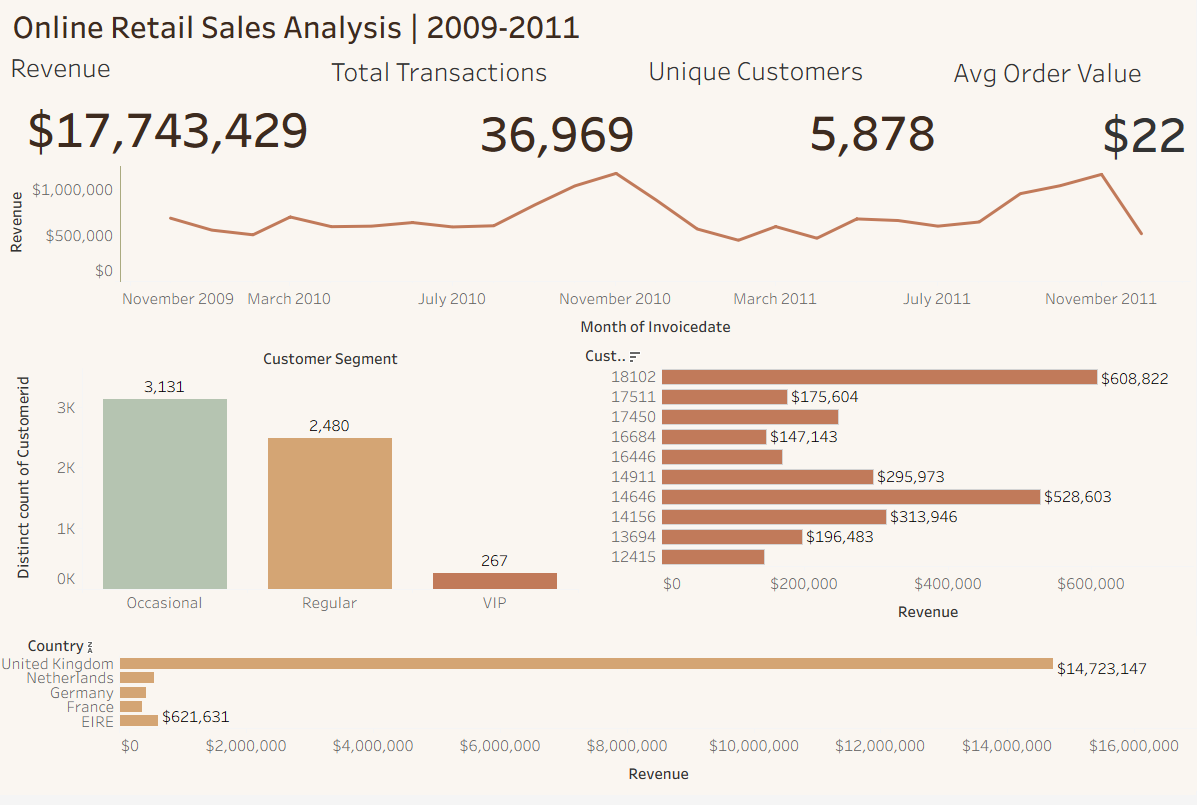

The page's visual inventory and layout, read from the dashboard file:
{"tool":"tableau","page":{"name":"Dashboard 1","canvas":[1200,800],"ordinal":0},"visuals":[{"type":"text","box":[8,8,1184,45]},{"type":"worksheet","title":"Revenue","mark":"Automatic","box":[9,51,307,115]},{"type":"text","box":[8,53,1184,739]},{"type":"worksheet","title":"Unique Customers","mark":"Automatic","box":[647,54,296,119]},{"type":"worksheet","title":"Total Transactions","mark":"Automatic","box":[330,55,313,124]},{"type":"worksheet","title":"Avg Order Value","mark":"Automatic","box":[952,56,242,129]},{"type":"worksheet","title":"Revenue by Month","mark":"Automatic","rows":["revenue"],"cols":["invoicedate"],"box":[1,171,1193,178]},{"type":"worksheet","title":"TOP 10 Customers","mark":"Automatic","rows":["customerid"],"cols":["revenue"],"box":[584,351,614,289]},{"type":"worksheet","title":"Customer Segment","mark":"Automatic","rows":["customerid"],"cols":["Calculation_1464605821739008"],"box":[8,353,574,280]},{"type":"worksheet","title":"Revenue by Country","mark":"Automatic","rows":["country"],"cols":["revenue"],"box":[2,641,1199,155]}]}

Visuals, with their boxes in screenshot pixels (x1, y1, x2, y2), scaled from the page's 1200x800 canvas onto the 1197x805 screenshot:
text: region(8, 8, 1189, 53)
"Revenue" worksheet: region(9, 51, 315, 167)
text: region(8, 53, 1189, 797)
"Unique Customers" worksheet: region(645, 54, 941, 174)
"Total Transactions" worksheet: region(329, 55, 641, 180)
"Avg Order Value" worksheet: region(950, 56, 1191, 186)
"Revenue by Month" worksheet: region(1, 172, 1191, 351)
"TOP 10 Customers" worksheet: region(583, 353, 1195, 644)
"Customer Segment" worksheet: region(8, 355, 581, 637)
"Revenue by Country" worksheet: region(2, 645, 1196, 801)
